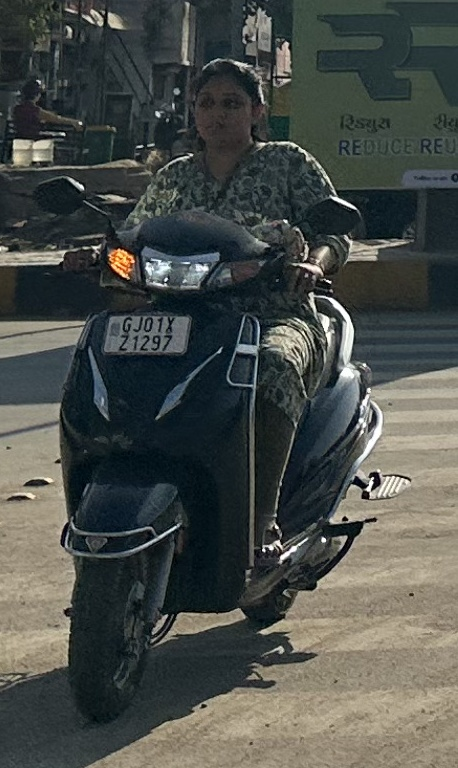BikeWithRider: (23, 48, 418, 731)
NoHelmet: (181, 52, 274, 157)
